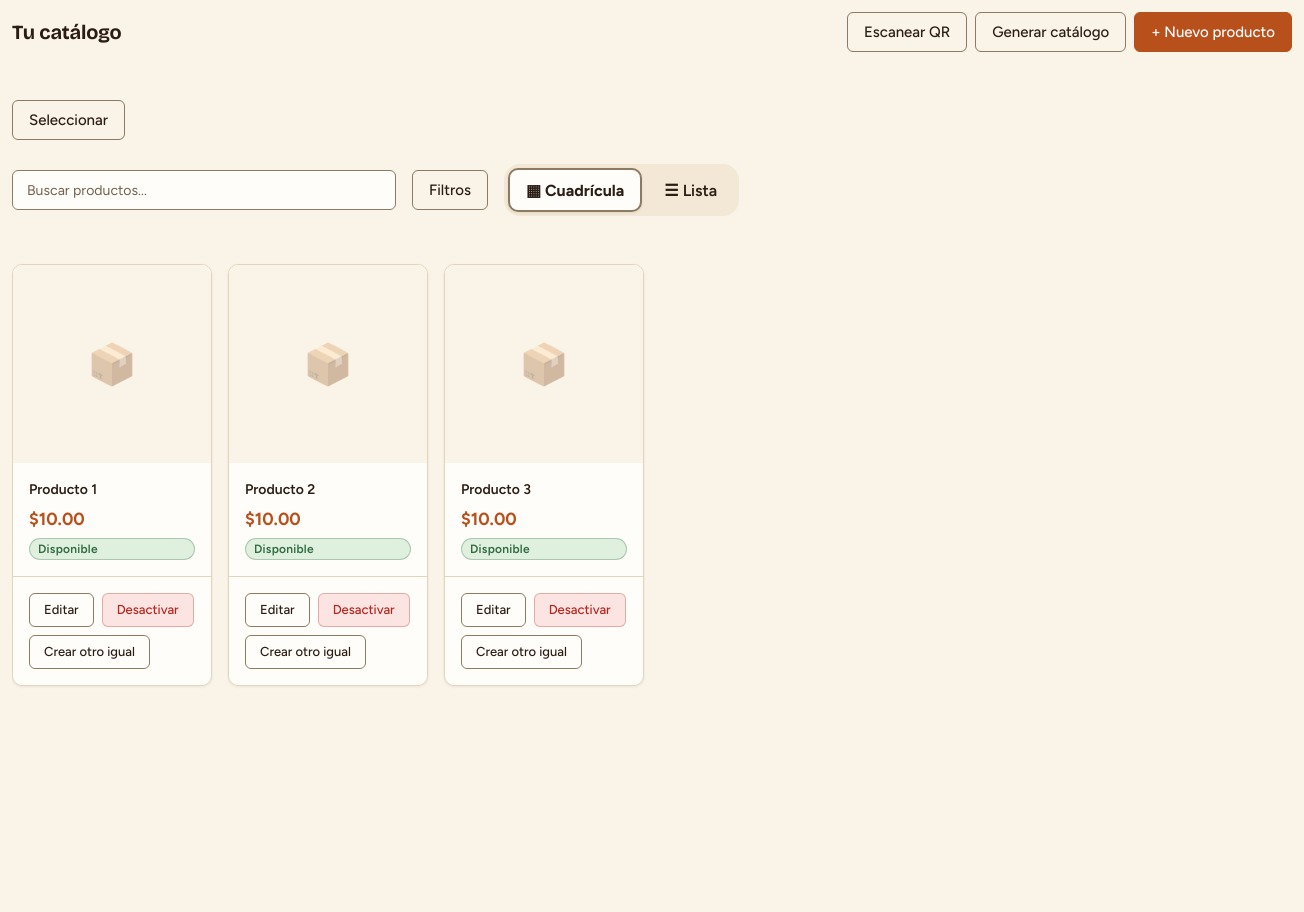
Scenario: ProductCatalogView — selección para imprimir códigos QR › marcar productos actualiza el contador y muestra "Imprimir códigos QR"
Click the button "Seleccionar": (68, 120) x1=12 y1=100 x2=125 y2=140
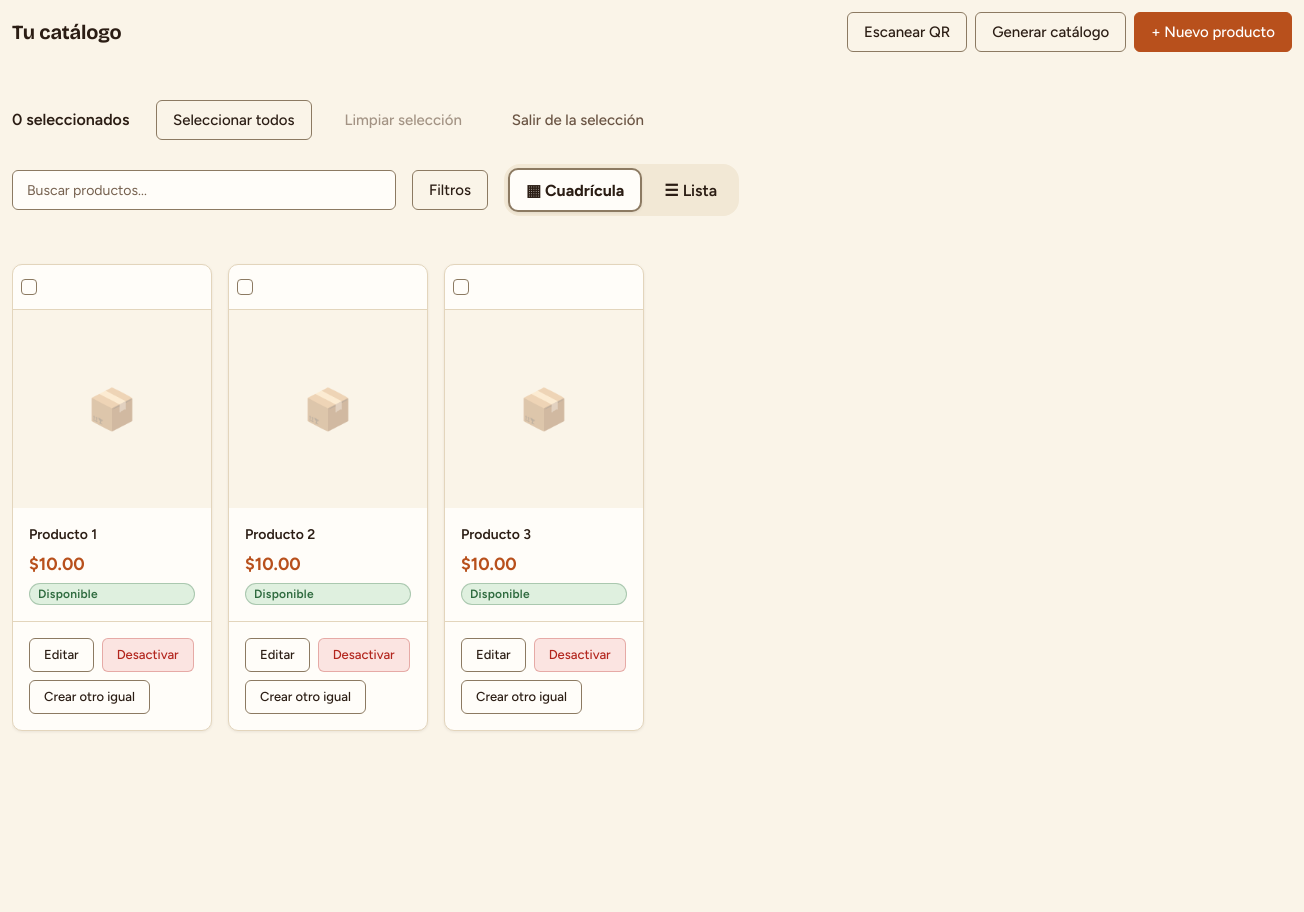
Click the checkbox named "Seleccionar Producto 1 para imprimir su código QR": (29, 287) x1=21 y1=279 x2=37 y2=295
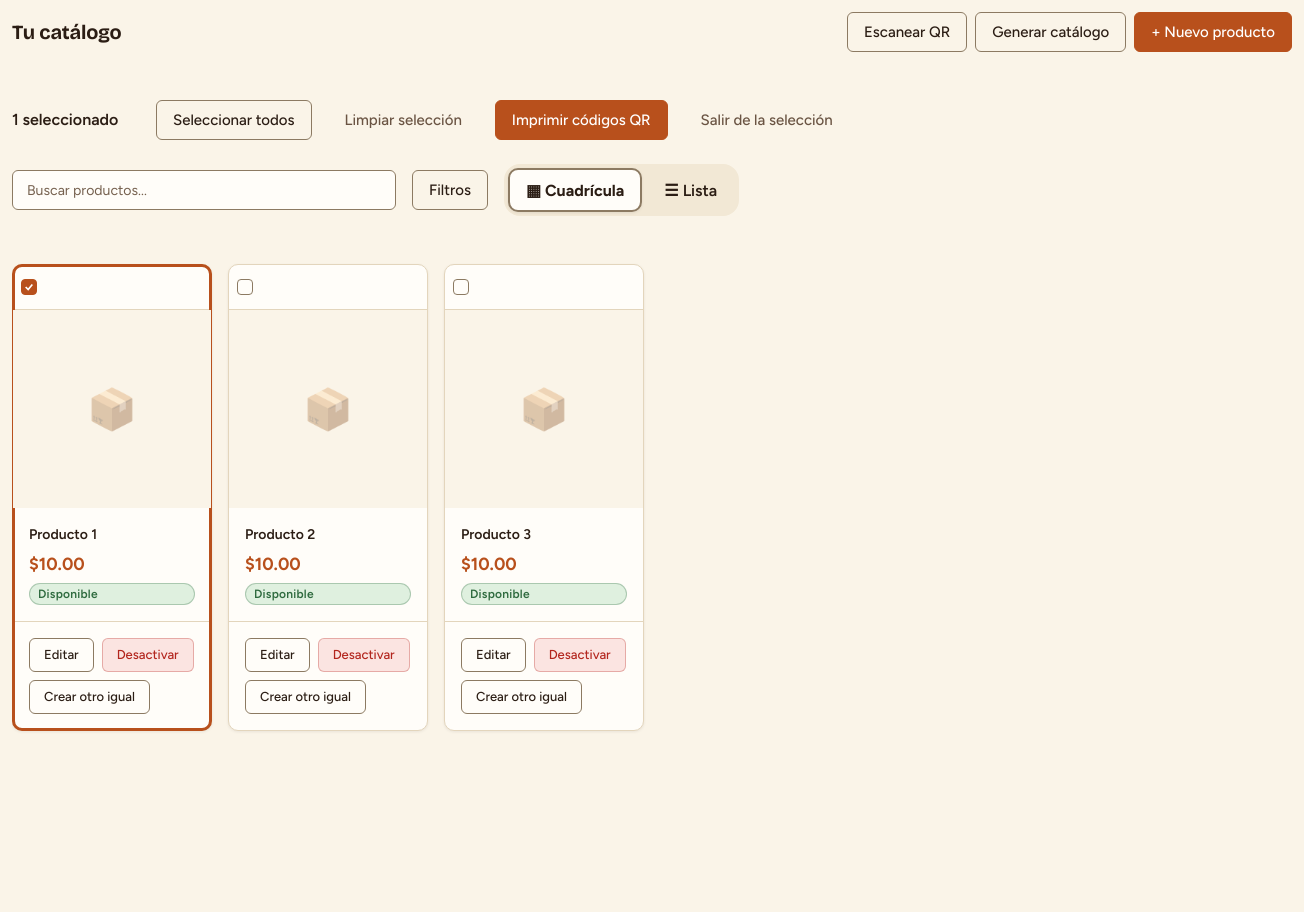
Click the checkbox named "Seleccionar Producto 3 para imprimir su código QR": (461, 287) x1=453 y1=279 x2=469 y2=295
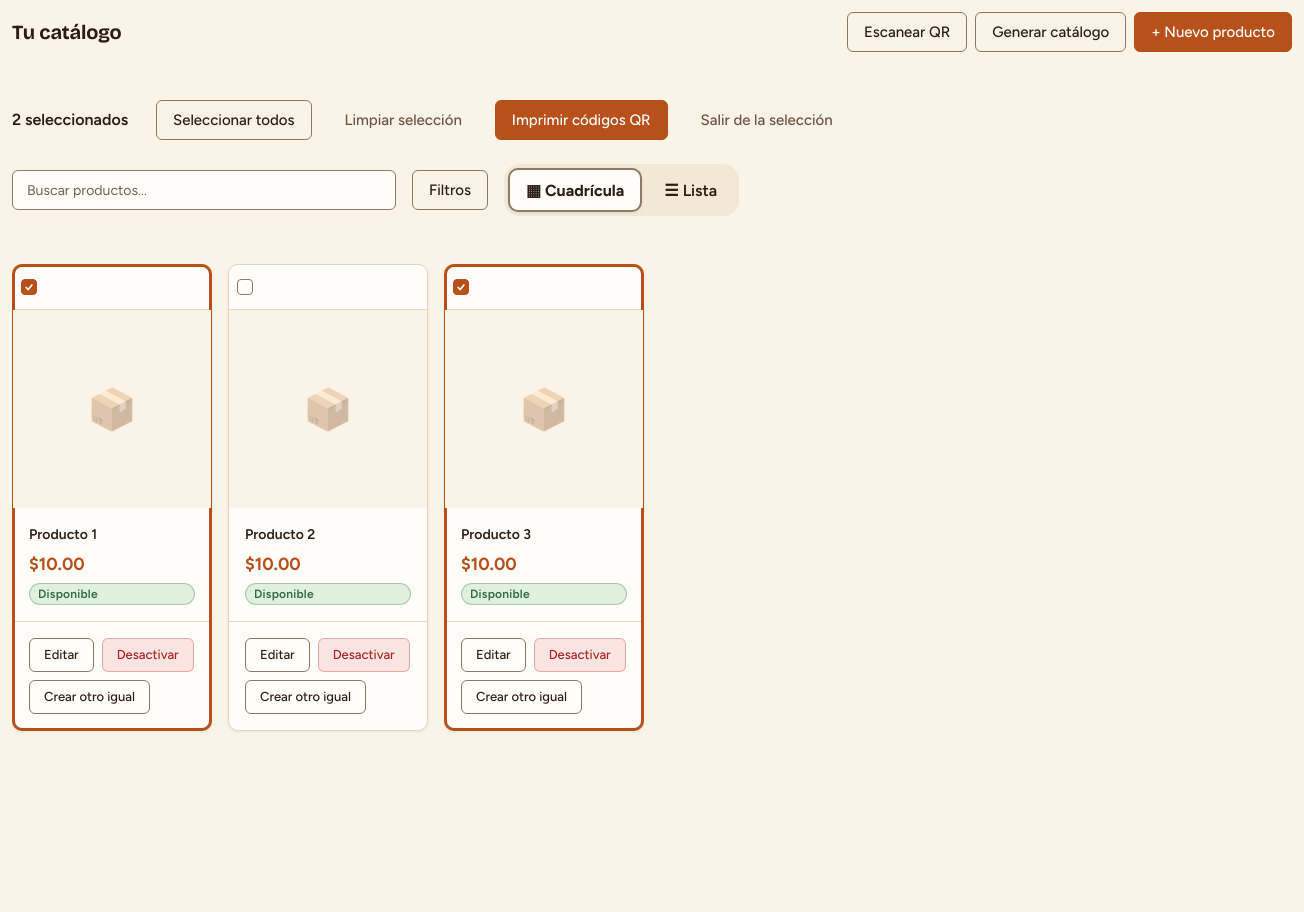
Now the button "Imprimir códigos QR" is shown, box x1=495 y1=100 x2=668 y2=140
Now the text "2 seleccionados" is shown, box x1=12 y1=107 x2=140 y2=133
Click the checkbox named "Seleccionar Producto 1 para imprimir su código QR": (29, 287) x1=21 y1=279 x2=37 y2=295
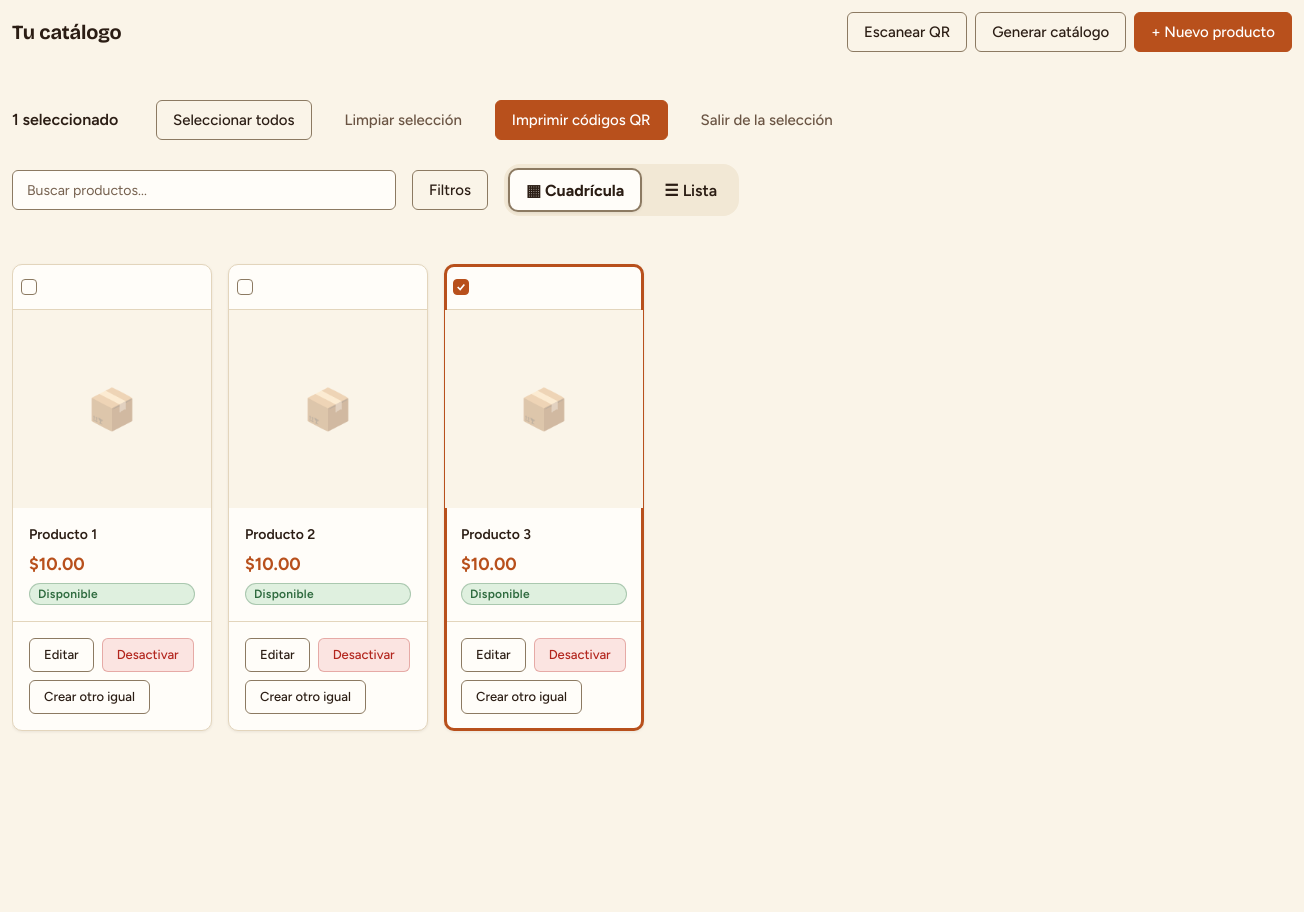
Now the text "1 seleccionado" is shown, box x1=12 y1=110 x2=118 y2=129
